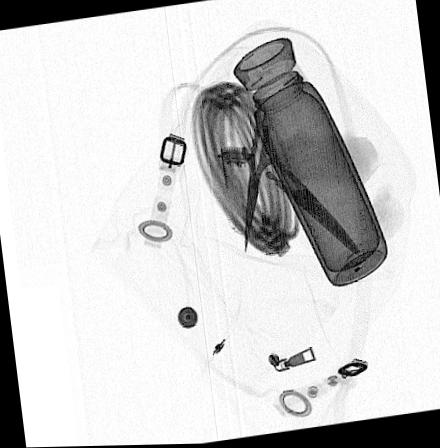Scissors: (219, 84, 361, 259), (235, 80, 306, 254)
